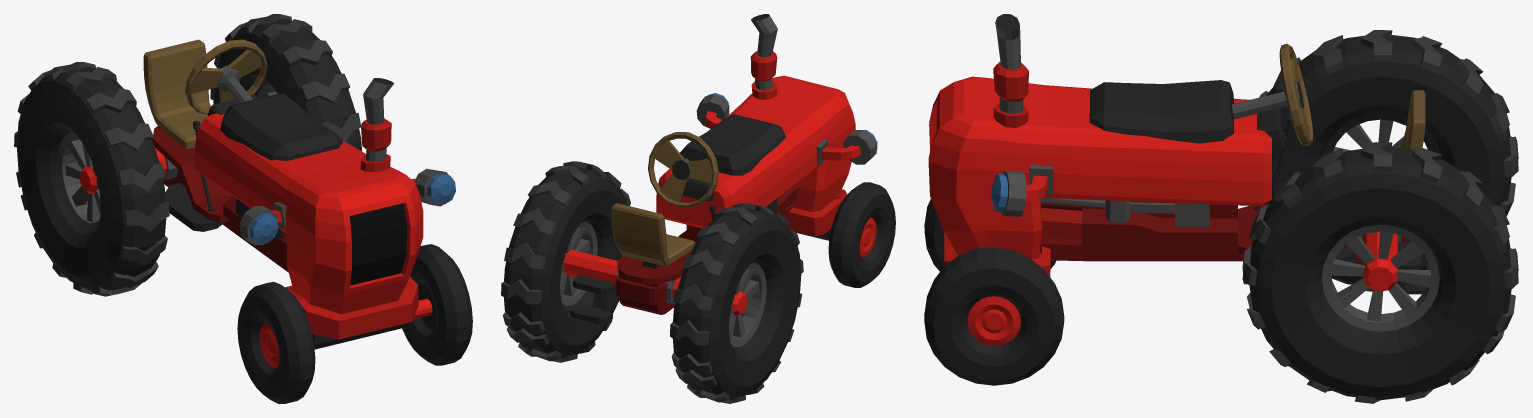
File: tractor.fbx
3 renders of one model, left to right at view 1: azimuth 30°, elevation 25°; view 2: azimuth 150°, elevation 25°; view 3: azimuth 270°, elevation 25°, orthographic. The views are drawn at different scales.
Visible parts, largest first — view 1: tractor_LOD0; view 2: tractor_LOD0; view 3: tractor_LOD0.
Part boxes in pixels (left/top/right/bottom): tractor_LOD0: left=14, top=14, right=472, bottom=403; tractor_LOD0: left=501, top=14, right=895, bottom=403; tractor_LOD0: left=924, top=14, right=1518, bottom=403.
Size of what is drawn, in the model's own units: 1.7 by 1.92 by 3.02.
